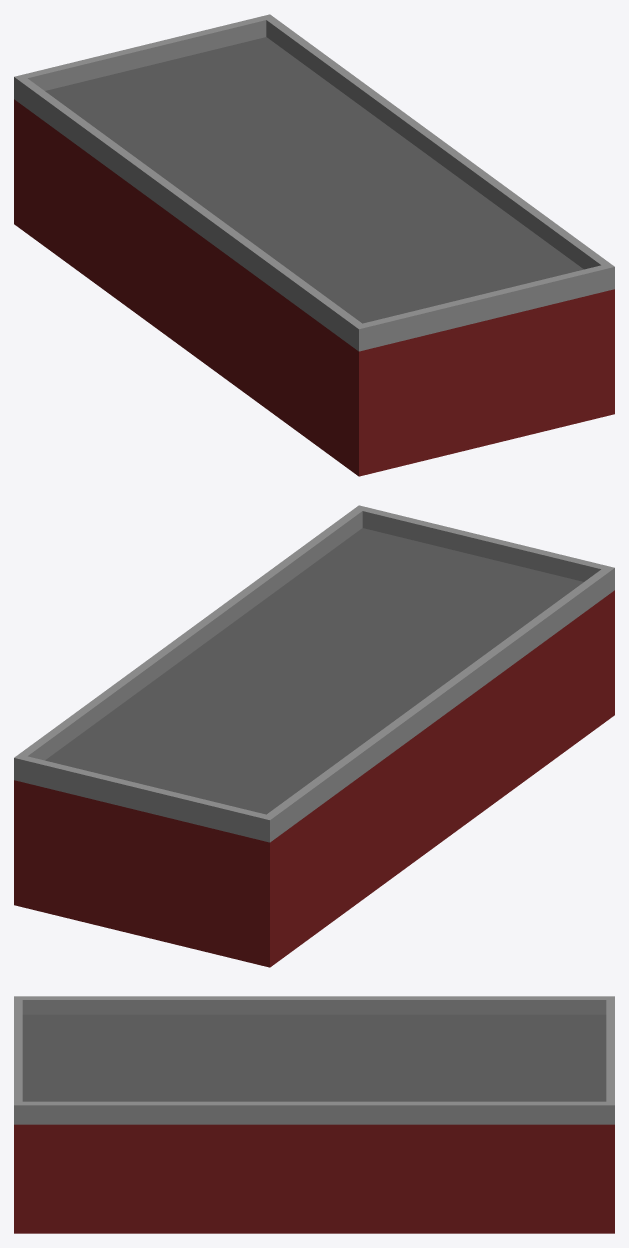
File: Building_15_35_70.FBX
3 renders of one model, top to bottom at view 1: azimuth 30°, elevation 25°; view 2: azimuth 150°, elevation 25°; view 3: azimuth 270°, elevation 25°, orthographic. The views are drawn at different scales.
Visible parts, largest first — view 1: BakedBuilding_2014741032856662; view 2: BakedBuilding_2014741032856662; view 3: BakedBuilding_2014741032856662.
Part boxes in pixels (x1,y1,x2,y2): BakedBuilding_2014741032856662: [14, 14, 614, 476]; BakedBuilding_2014741032856662: [14, 505, 614, 967]; BakedBuilding_2014741032856662: [14, 996, 614, 1233].
Bounding box in the file's own units: 1500 × 825 × 3500.
